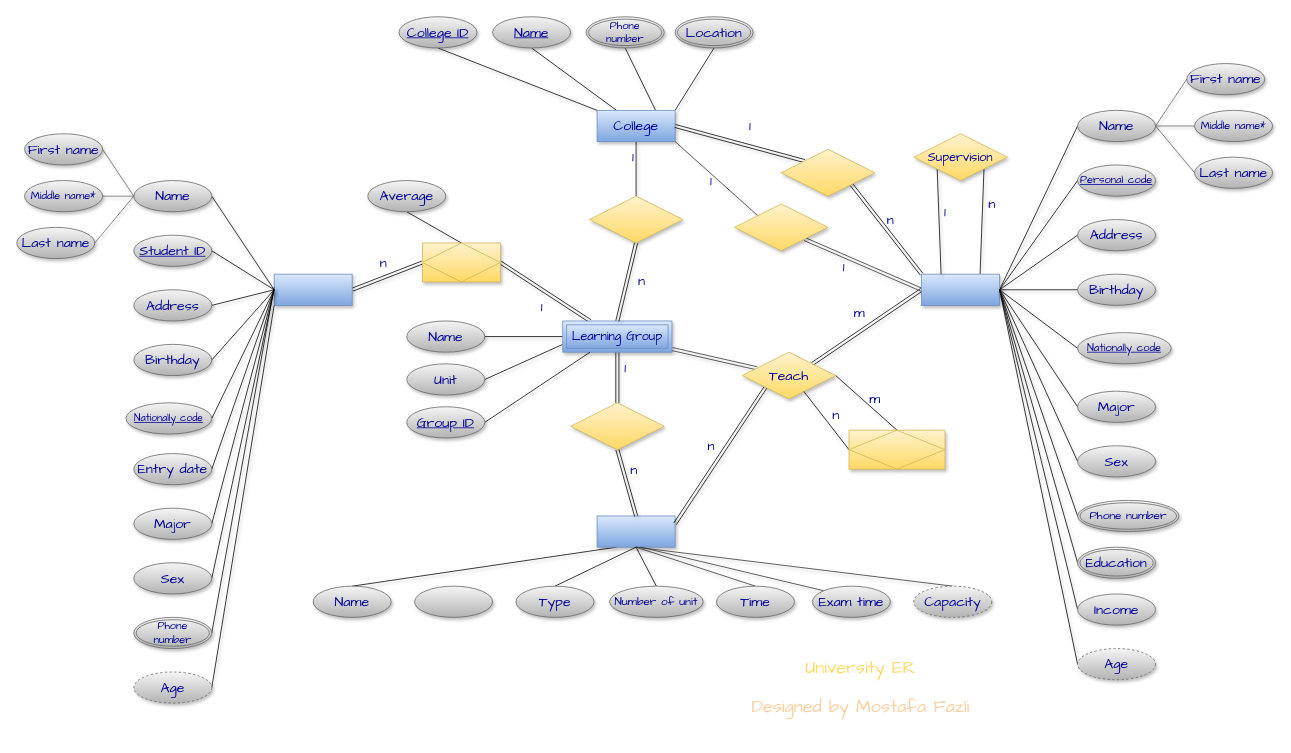
Some shapes in this 1291 by 753 pixel diagram are drawn without their labels. Here are the shapes that lost their labels. From the top down, the centre of each, then its label:
At [828,173]: "Role".
At [636,220]: "Presentation".
At [781,228]: "Manage".
At [461,263]: "Select".
At [313,290]: "Student".
At [961,290]: "Master".
At [618,427]: "Inclusive".
At [897,450]: "Prerequisites".
At [636,532]: "Lesson".
At [454,602]: "Lesson ID".
